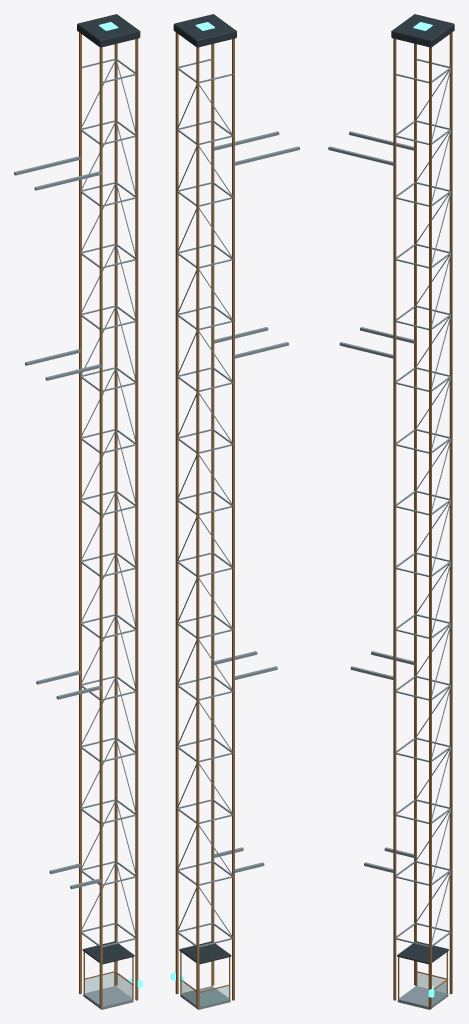
File: sky-lift.lod0.glb
3 views of the same model, side by side, from view 1: azimuth 30°, elevation 25°; view 2: azimuth 210°, elevation 25°; view 3: azimuth 330°, elevation 25° (orthographic).
Parts seen in each view (by area): view 1: structure, cab; view 2: structure, cab; view 3: structure, cab.
Boxes of the visible parts, x1,y1,x2,y2 form: structure: [14, 14, 142, 1009]; cab: [82, 941, 134, 1009]; structure: [171, 14, 299, 1009]; cab: [179, 941, 231, 1009]; structure: [328, 14, 454, 1009]; cab: [397, 941, 448, 1009].
Size of the model in its own units: 8.57 by 75.69 by 3.42.
